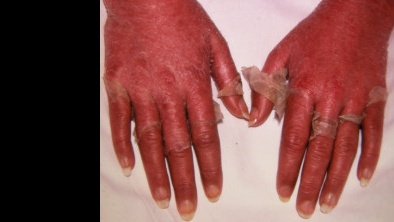SJS-TEN: (85, 7, 267, 182), (227, 0, 394, 170)
